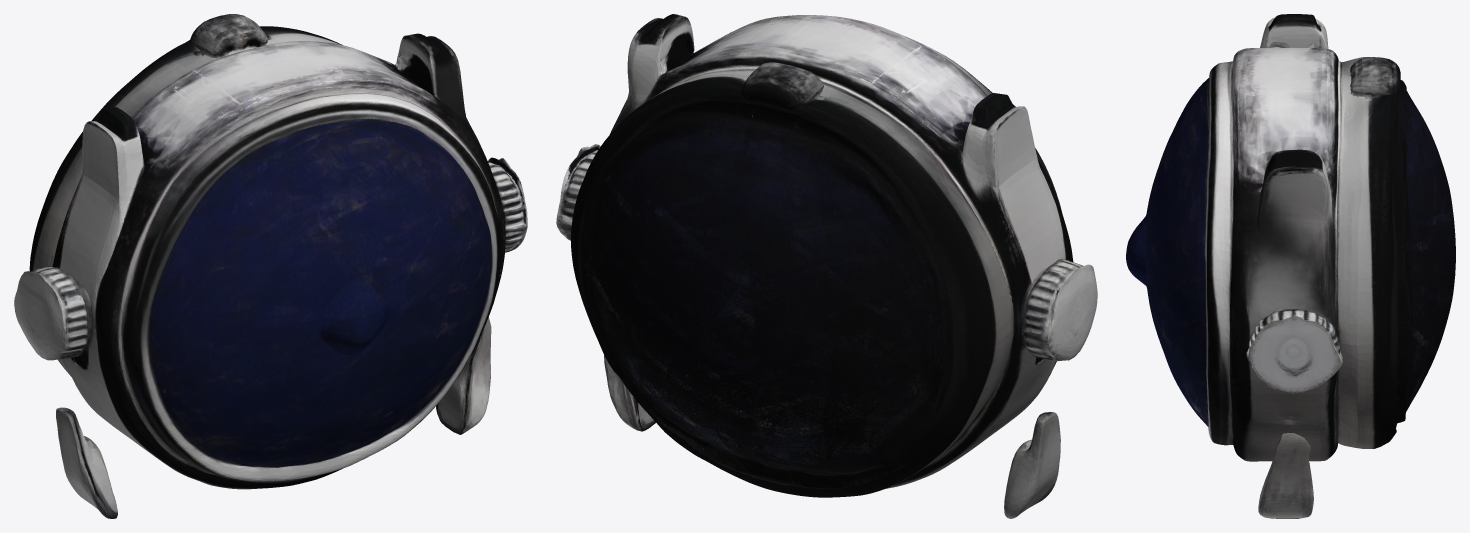
Rendered from gen-watch-hero.glb.
3 views of the same model, side by side, from view 1: azimuth 30°, elevation 25°; view 2: azimuth 150°, elevation 25°; view 3: azimuth 270°, elevation 25° (orthographic). The views are drawn at different scales.
Visible parts, largest first — view 1: world; view 2: world; view 3: world.
Part boxes in pixels (x1,y1,x2,y2): world: (14, 14, 527, 518); world: (556, 14, 1097, 518); world: (1126, 14, 1455, 518).
Bounding box in the file's own units: 0.9874 × 0.8343 × 0.6573.
1 material, 1 textured.
